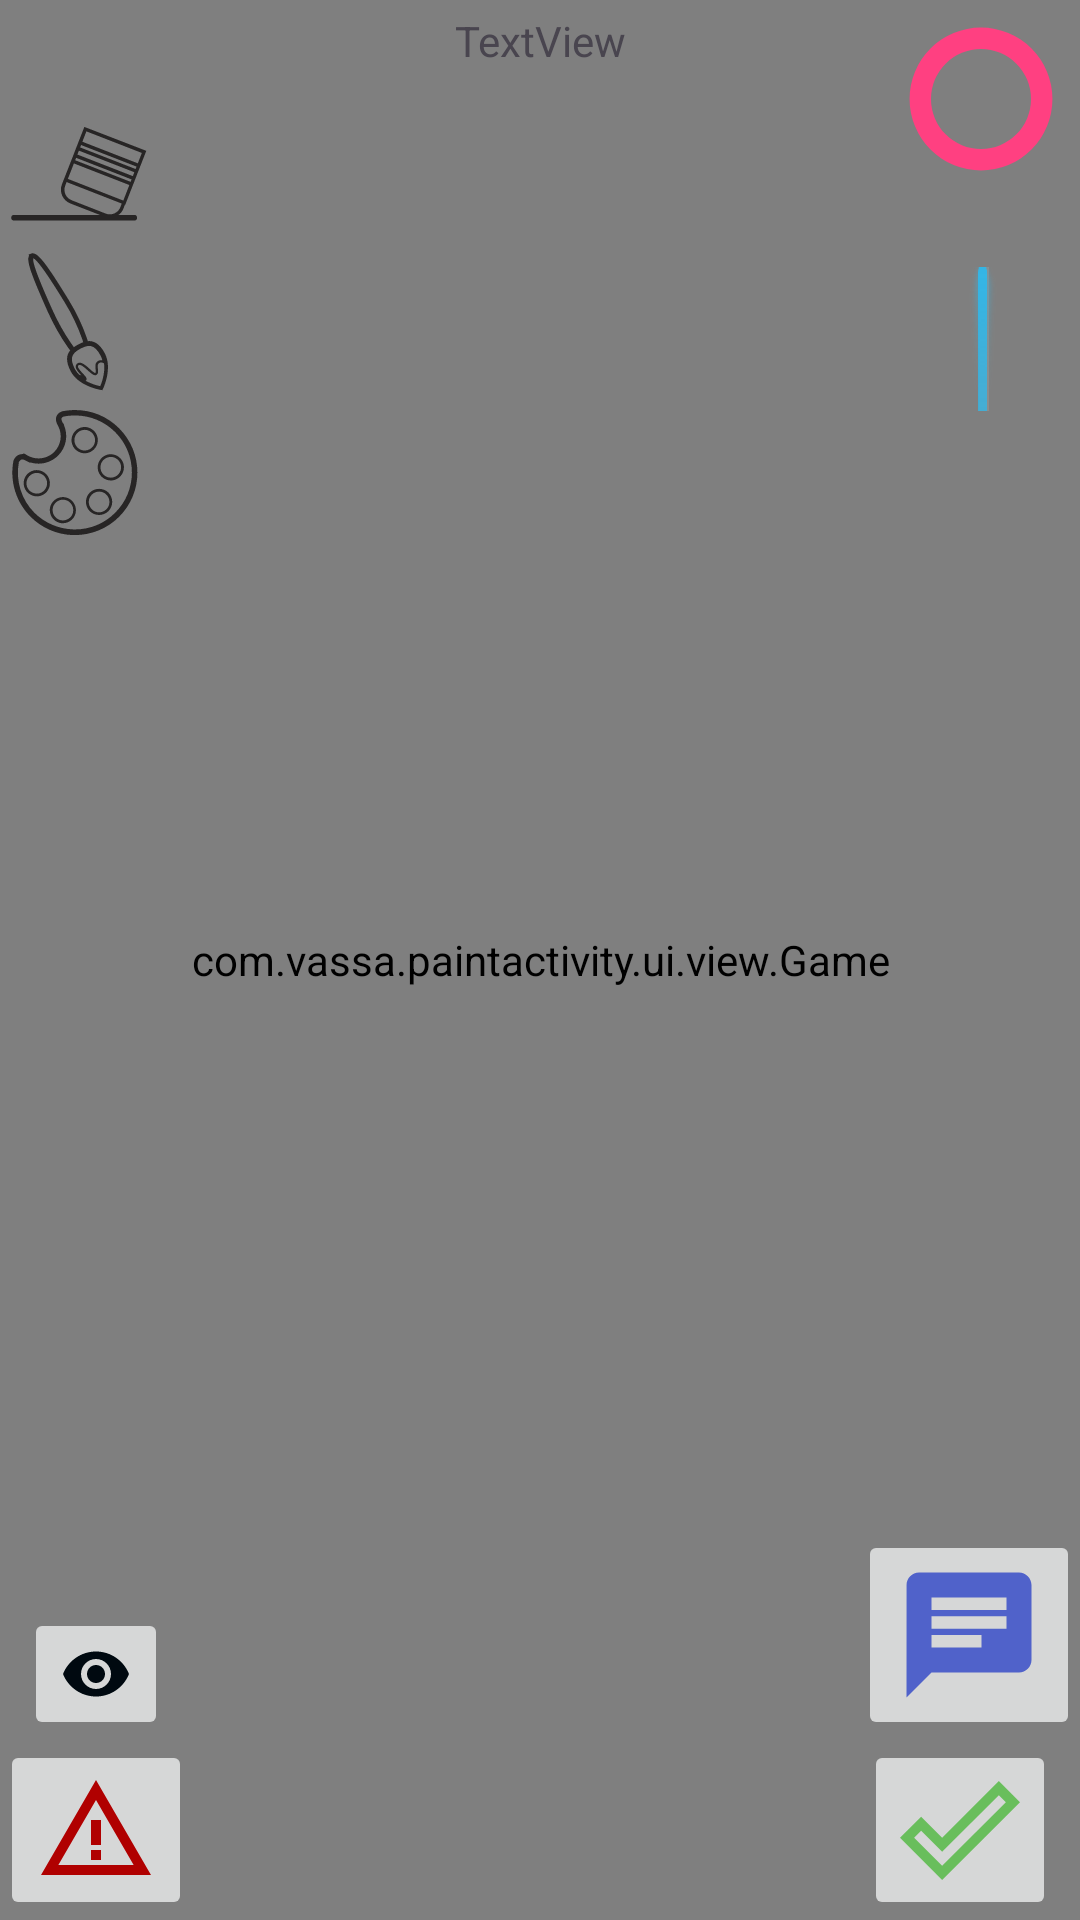

Icon bounding boxes for this 1080*1920 phone screenshot, format (x1, y1, x2, y2):
chat: (870, 1548, 1068, 1722)
done: (876, 1758, 1044, 1902)
eraser: (11, 127, 146, 221)
palitra: (12, 410, 138, 535)
warning amber: (12, 1758, 180, 1902)
